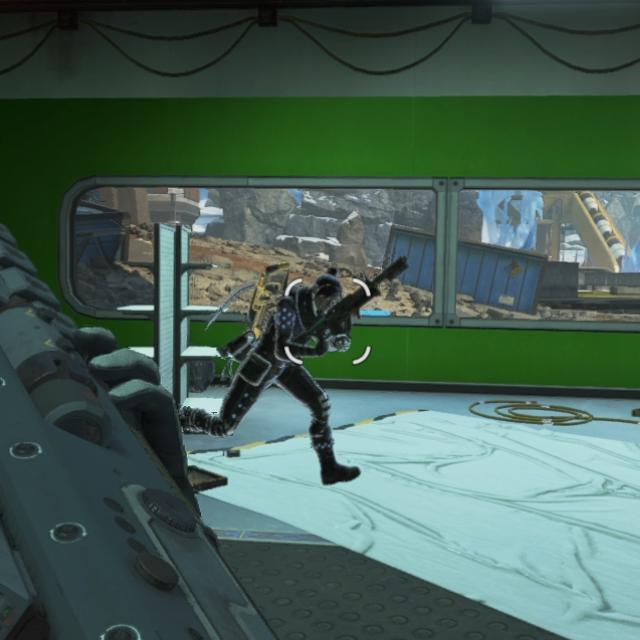avatar: (216, 265, 363, 488)
